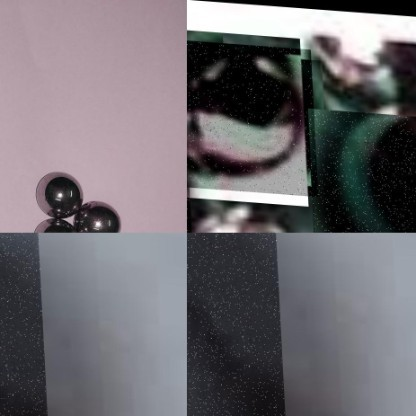ironball: (186, 37, 316, 193), (186, 232, 283, 415), (306, 105, 415, 232), (0, 232, 47, 415), (32, 163, 83, 217), (74, 195, 128, 231), (28, 216, 81, 236)
